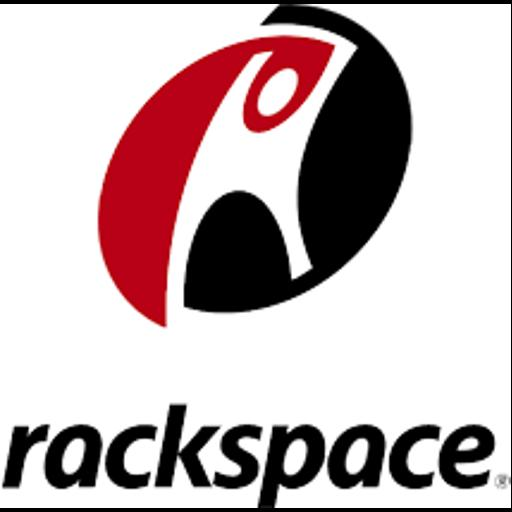Rackspace: (0, 4, 511, 508)
